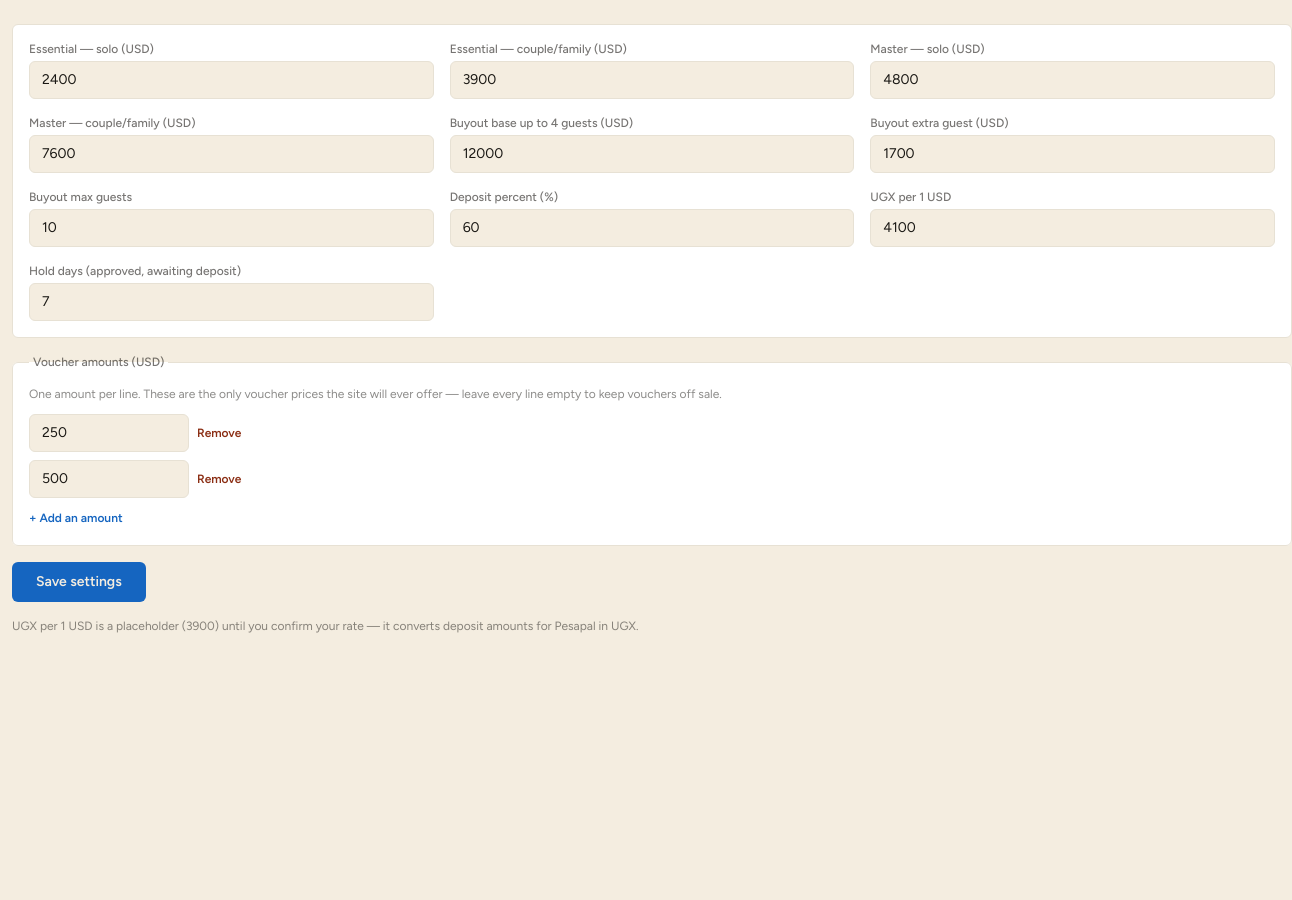
Scenario: SettingsForm partial save › writes nothing at all when nothing was edited
The image size is (1292, 900).
Click the button "Save settings".
click(79, 582)  # box [12,562,146,602]
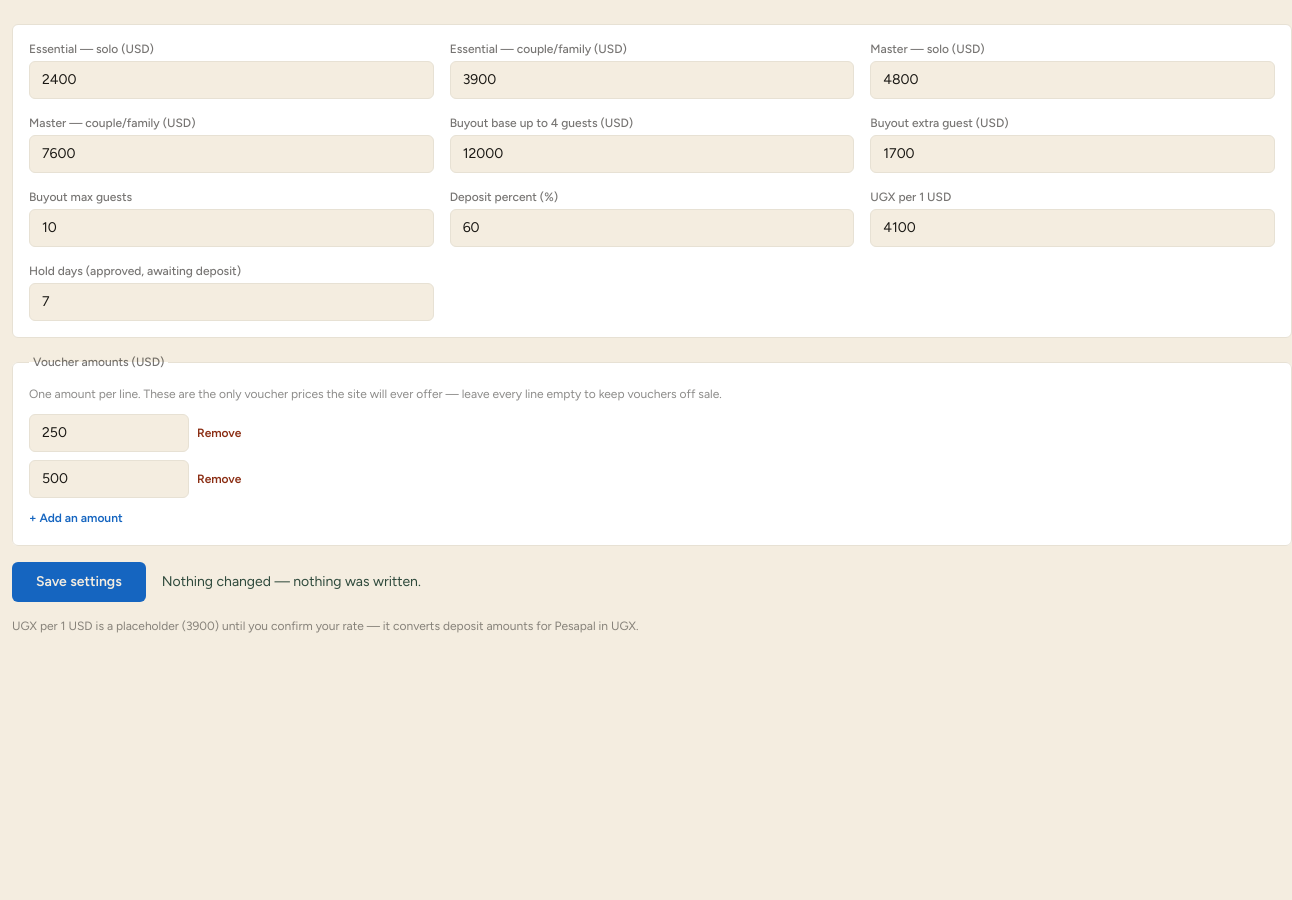
Check: the message shows "Nothing changed", box [162,573,421,590]
